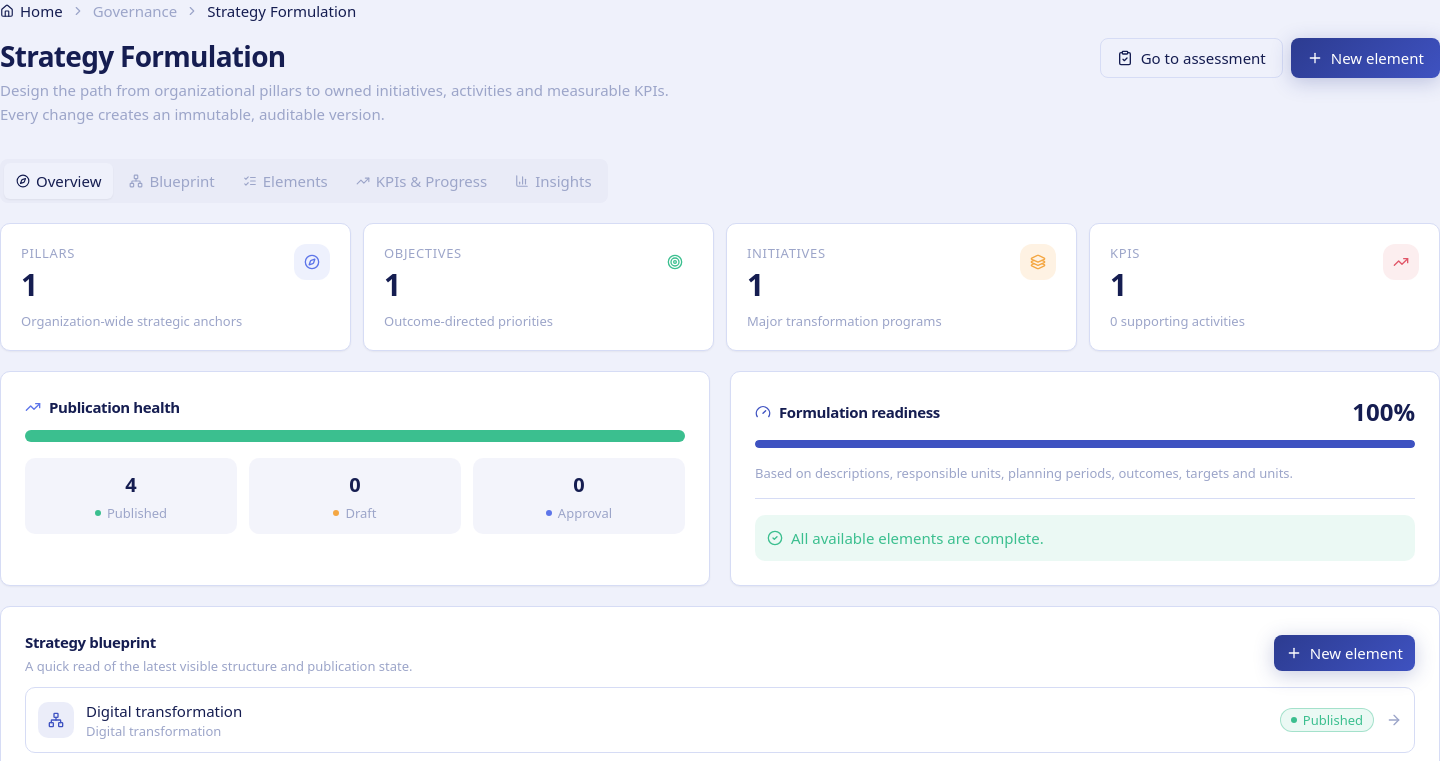
Test: StrategyFormulation API workspace › ignores a stale draft and keeps rendering the published version
Press the mouse on the tab "KPIs & Progress" at (422, 181), box x1=344 y1=163 x2=499 y2=199
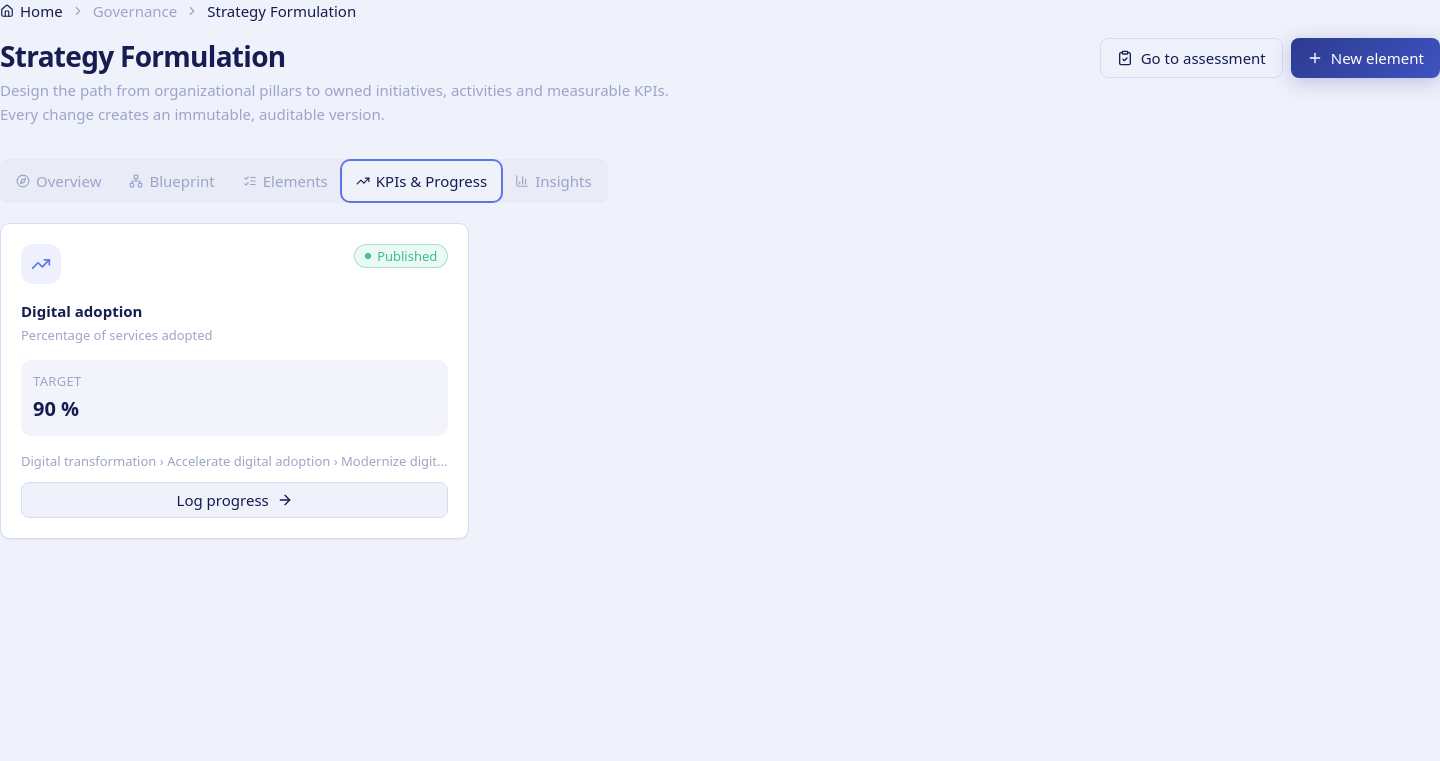
Click the button "Log progress" at (235, 500), box x1=21 y1=482 x2=448 y2=518
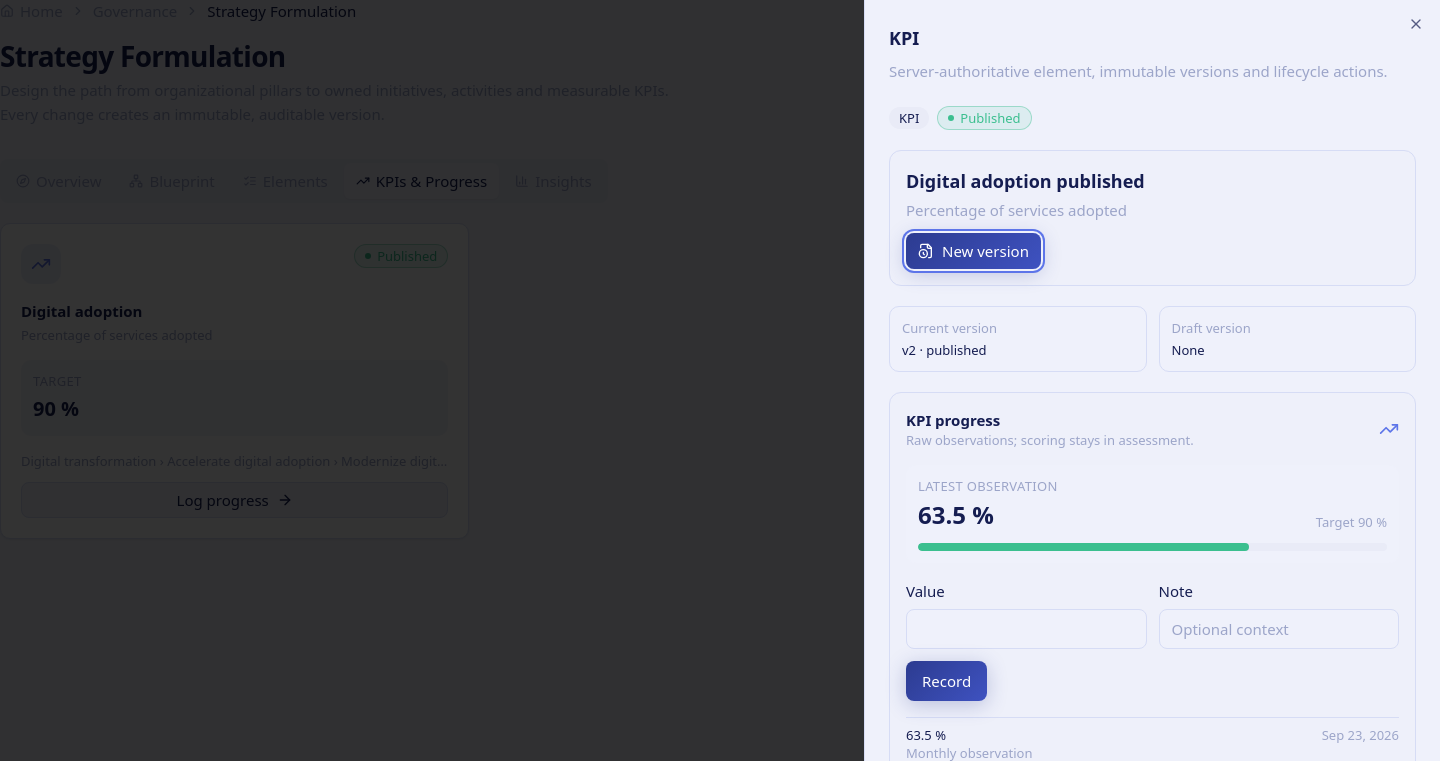
Expected: the text "Digital adoption published" is shown, x1=906 y1=169 x2=1145 y2=193
Expected: the button "New version" is shown, x1=906 y1=233 x2=1041 y2=269
